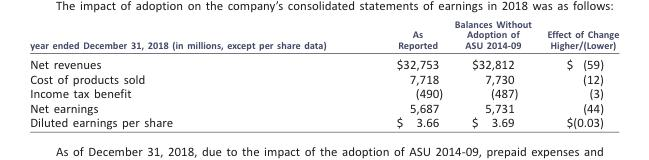table: (29, 29, 618, 129)
table column: (29, 29, 360, 129), (360, 29, 453, 129), (533, 29, 618, 129), (453, 29, 533, 129)
table column header: (29, 29, 618, 54)
table row: (29, 29, 618, 54), (29, 54, 618, 71), (29, 71, 618, 86), (29, 100, 618, 115), (29, 86, 618, 100), (29, 115, 618, 129)
